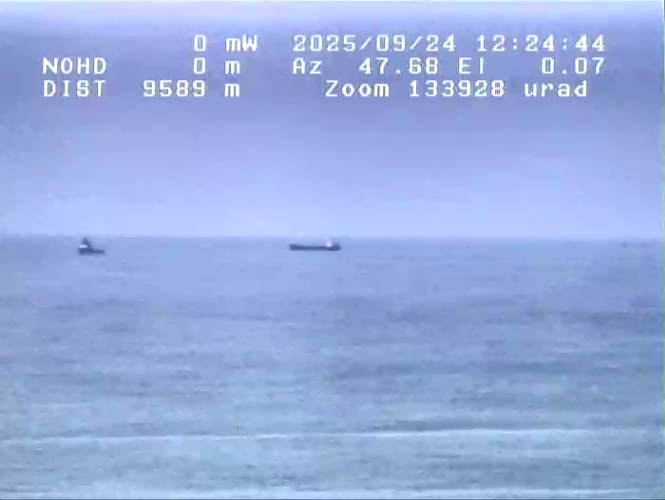OFFSHORE_SUPPLY_VESSEL: (70, 234, 112, 265)
TANKER: (281, 228, 356, 263)
